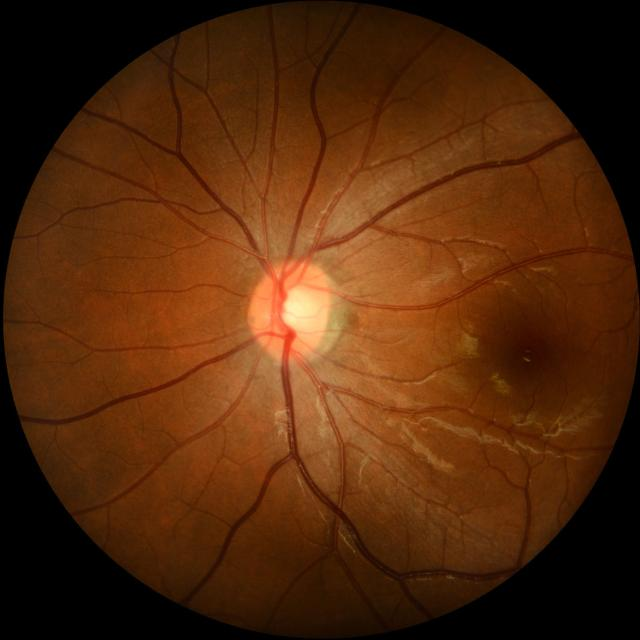OC: (277, 285, 318, 335)
OD: (250, 259, 330, 362)
